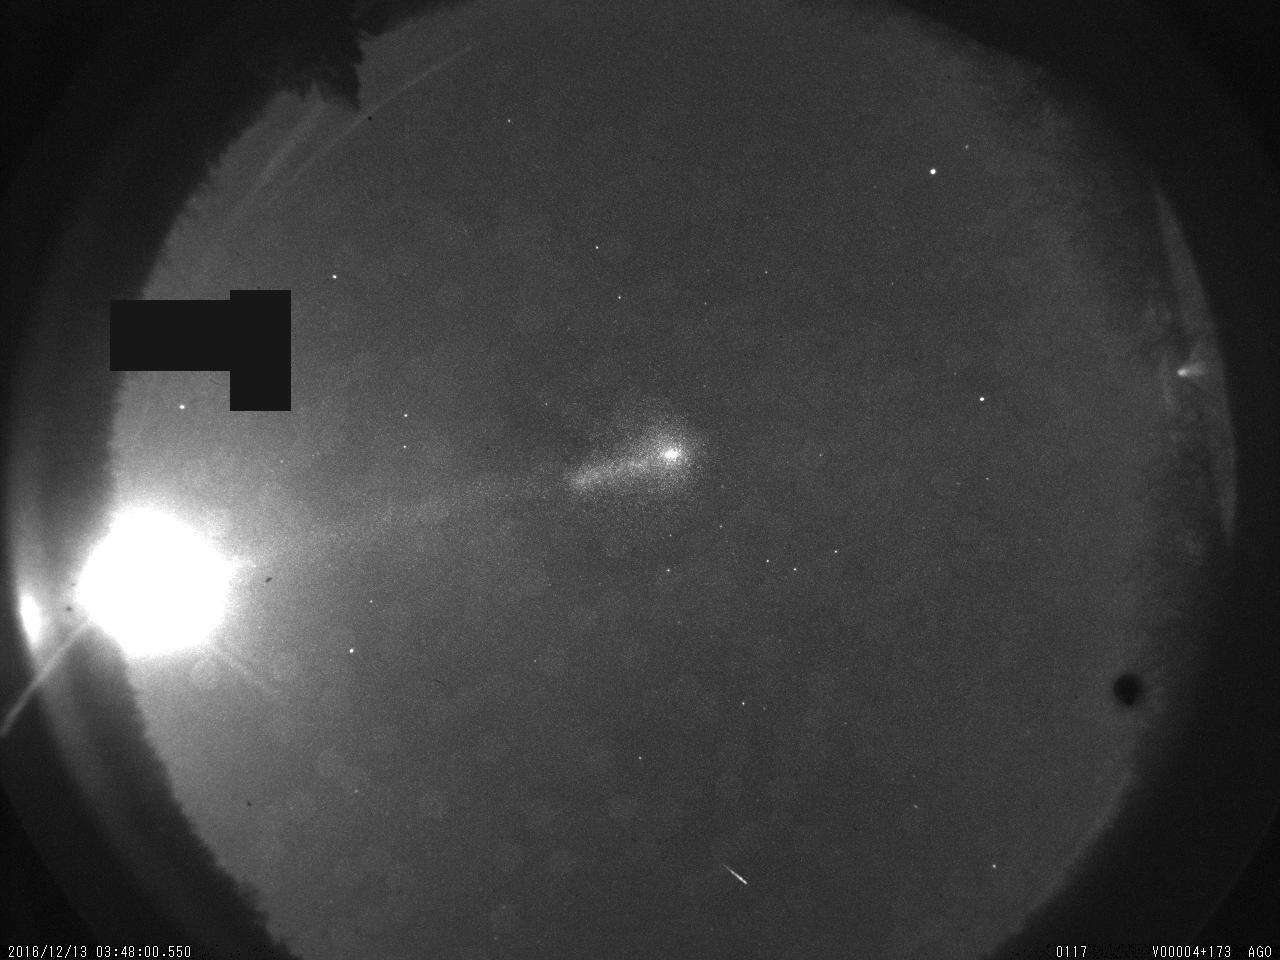meteor: (709, 858, 764, 899)
